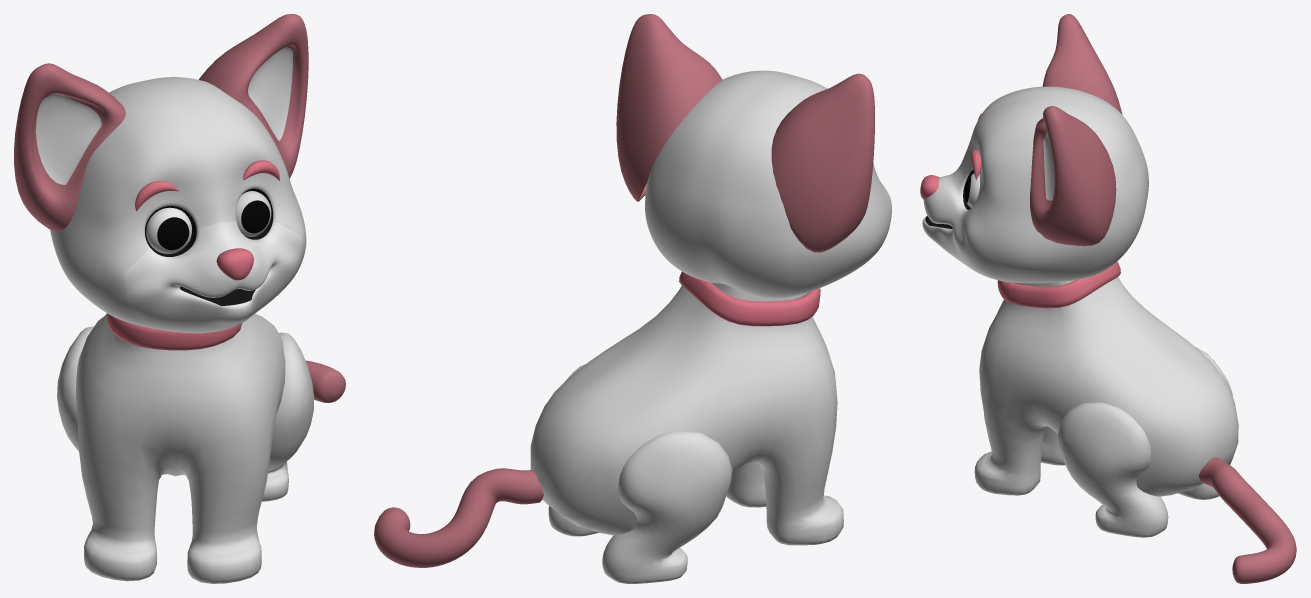
The model's file is Cat.glb.
The picture shows the model from 3 angles, left to right: view 1: azimuth 30°, elevation 25°; view 2: azimuth 150°, elevation 25°; view 3: azimuth 270°, elevation 25°; orthographic projection. The views are drawn at different scales.
Visible parts, largest first — view 1: Cube.017, Cube.018, Cube.016, Cube.020, Cube.019, Sphere.008, Sphere.007, NurbsPath.006, Cube.015, NurbsPath.004, NurbsPath.005; view 2: Cube.018, Cube.017, Cube.016, Cube.020, NurbsPath.006, Cube.019; view 3: Cube.018, Cube.017, Cube.016, Cube.020, NurbsPath.006, Cube.019.
Boxes of the visible parts, x1,y1,x2,y2 form: Cube.017: [50, 77, 306, 333]; Cube.018: [76, 313, 285, 583]; Cube.016: [14, 14, 308, 232]; Cube.020: [57, 326, 314, 501]; Cube.019: [106, 313, 242, 350]; Sphere.008: [146, 207, 191, 253]; Sphere.007: [236, 191, 271, 236]; NurbsPath.006: [306, 360, 345, 402]; Cube.015: [216, 248, 253, 280]; NurbsPath.004: [135, 181, 179, 211]; NurbsPath.005: [243, 160, 279, 180]; Cube.018: [530, 282, 843, 545]; Cube.017: [645, 70, 891, 297]; Cube.016: [616, 14, 874, 252]; Cube.020: [548, 363, 732, 583]; NurbsPath.006: [374, 468, 543, 567]; Cube.019: [679, 271, 820, 326]; Cube.018: [974, 277, 1238, 496]; Cube.017: [922, 86, 1148, 283]; Cube.016: [1030, 14, 1122, 246]; Cube.020: [1058, 347, 1232, 537]; NurbsPath.006: [1199, 457, 1296, 583]; Cube.019: [997, 261, 1120, 308].
Bounding box in the file's own units: 4.68 × 5.39 × 4.43.
